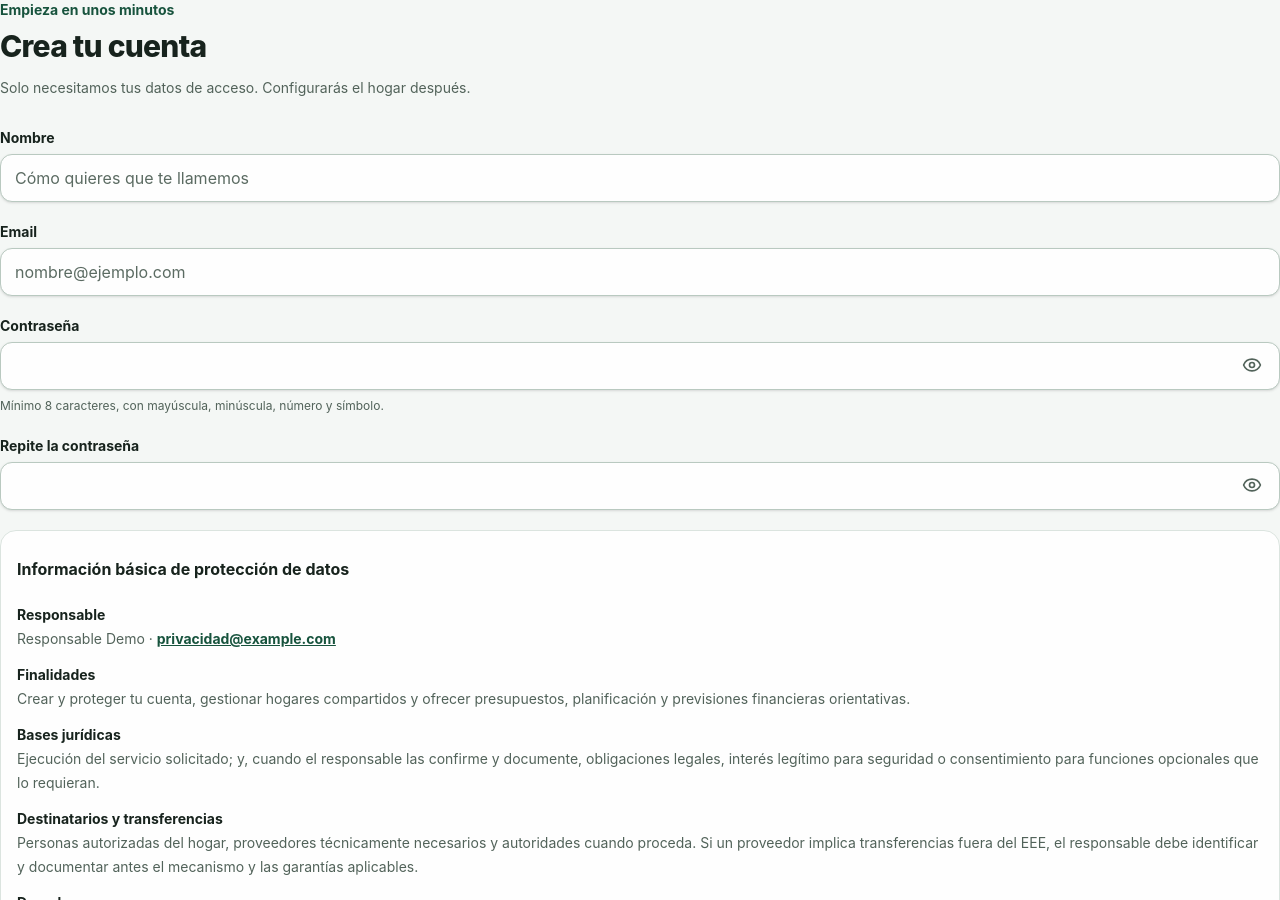
Test case: RegisterPage › muestra la primera capa y un error accionable si no se confirma
Check: the heading "Información básica de protección de datos" is shown, box [17,559,349,579]
Check: the text "previsiones financieras orientativas" is shown, box [17,690,910,707]
In the field labelled "Nombre": (640, 178) [0,154,1279,202], type "Pablo"
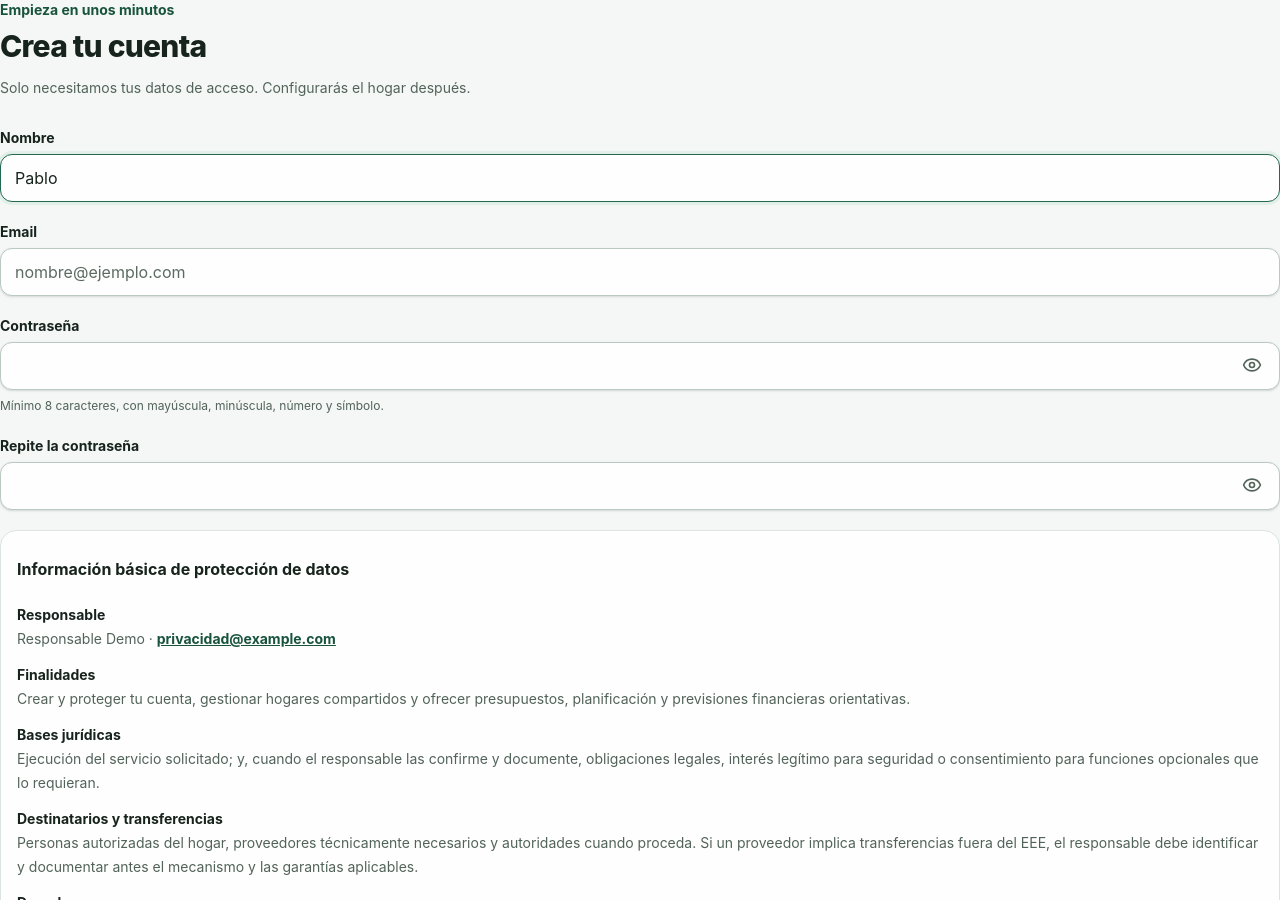
In the field labelled "Email": (640, 272) [0,248,1279,296], type "pablo@example.com"
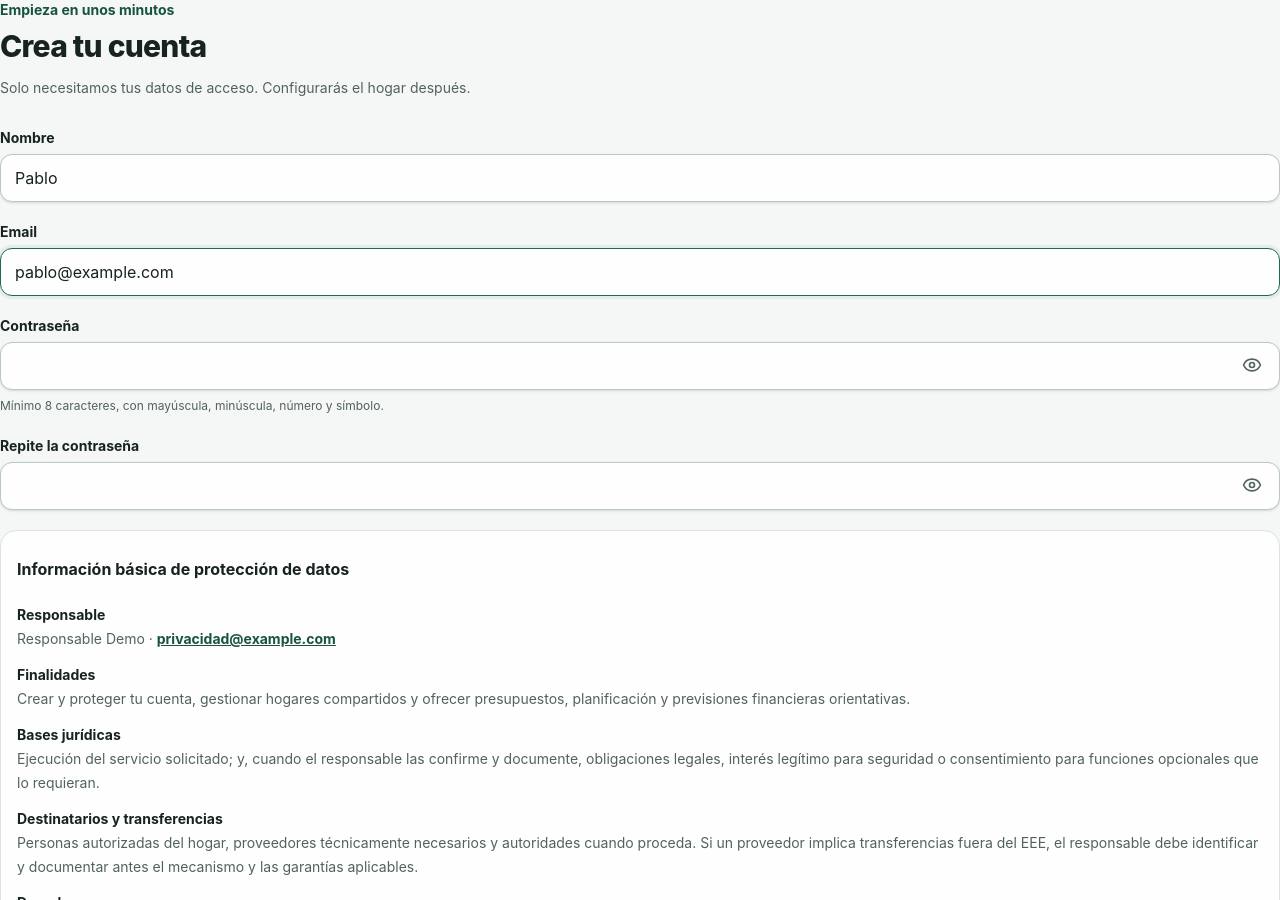
In the password field labelled "Contraseña": (640, 366) [0,342,1279,390], type "ClaveSegura1!"
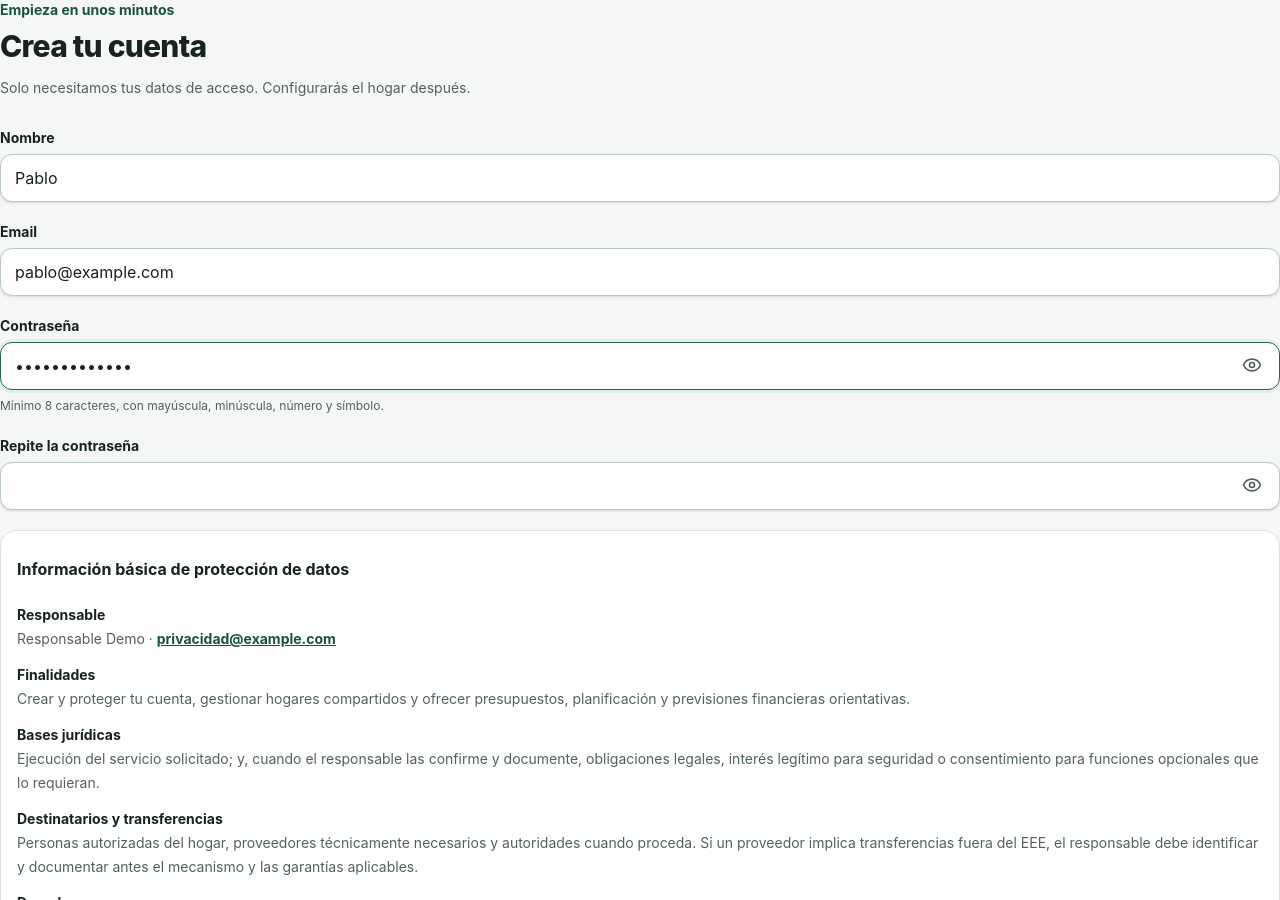
In the password field labelled "Repite la contraseña": (640, 486) [0,462,1279,510], type "ClaveSegura1!"
(page scrolled)
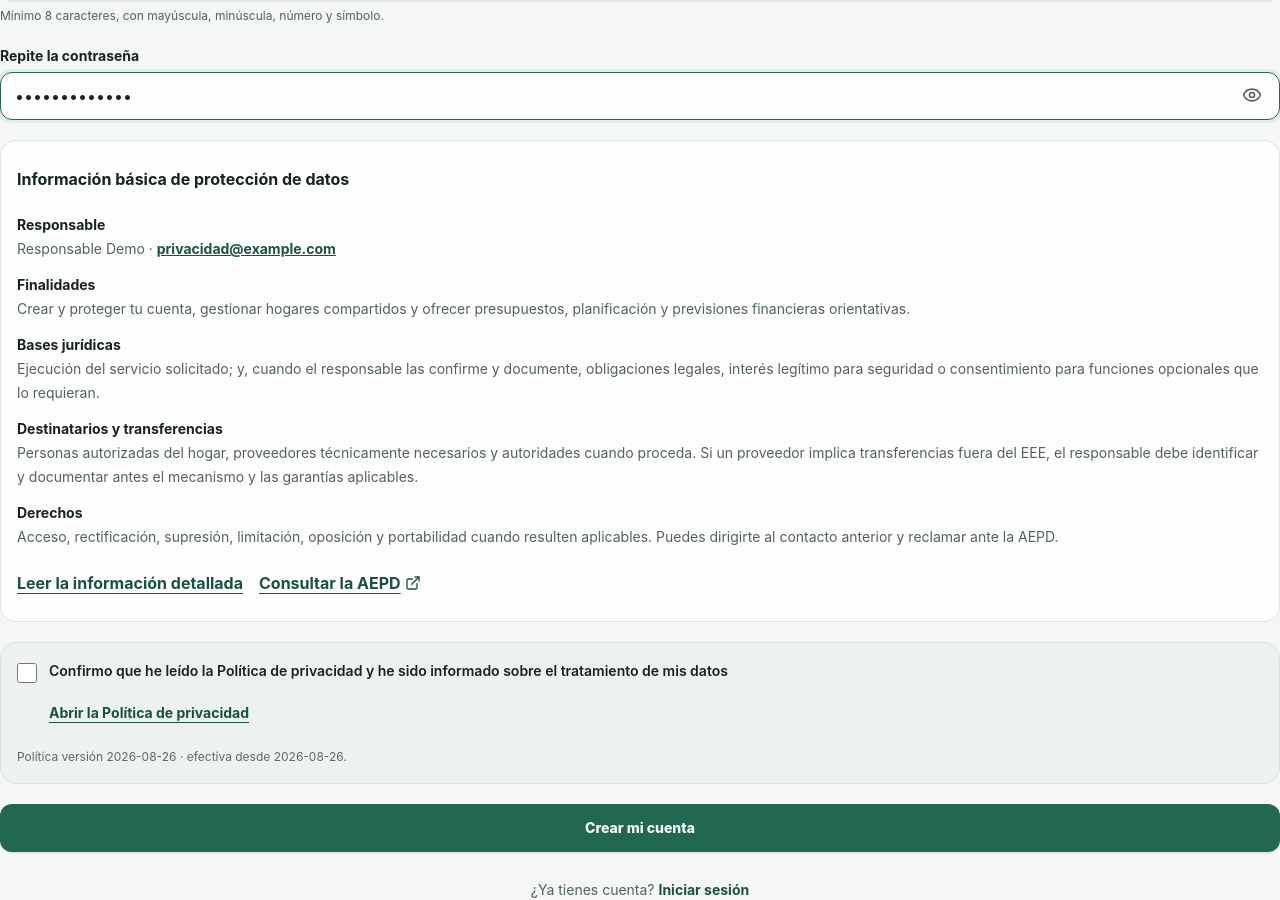
Click the button "Crear mi cuenta": (640, 828) [0,804,1279,852]
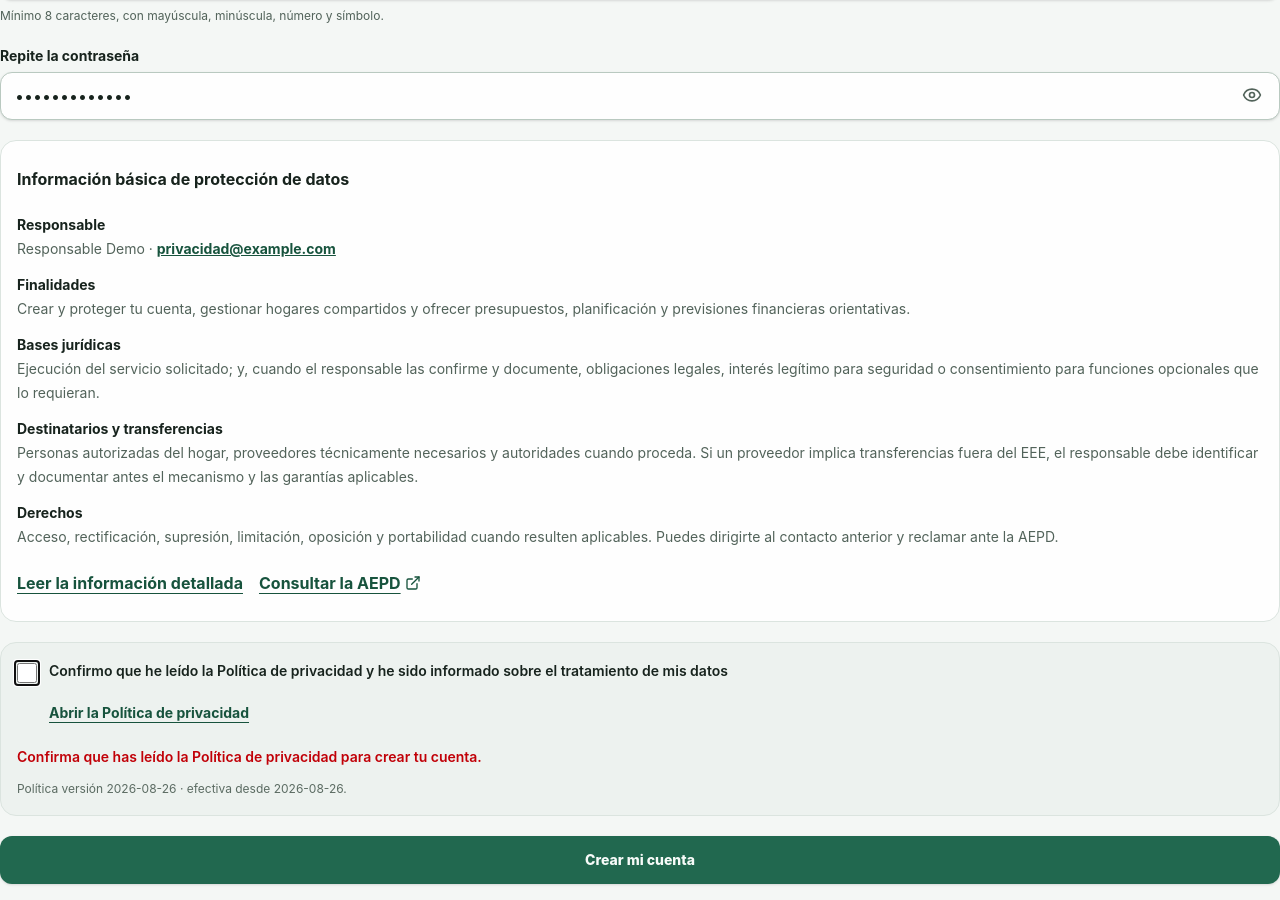
Check: the text "Confirma que has leído la Política de privacidad para crear tu cuenta." is shown, box [17,748,482,765]
